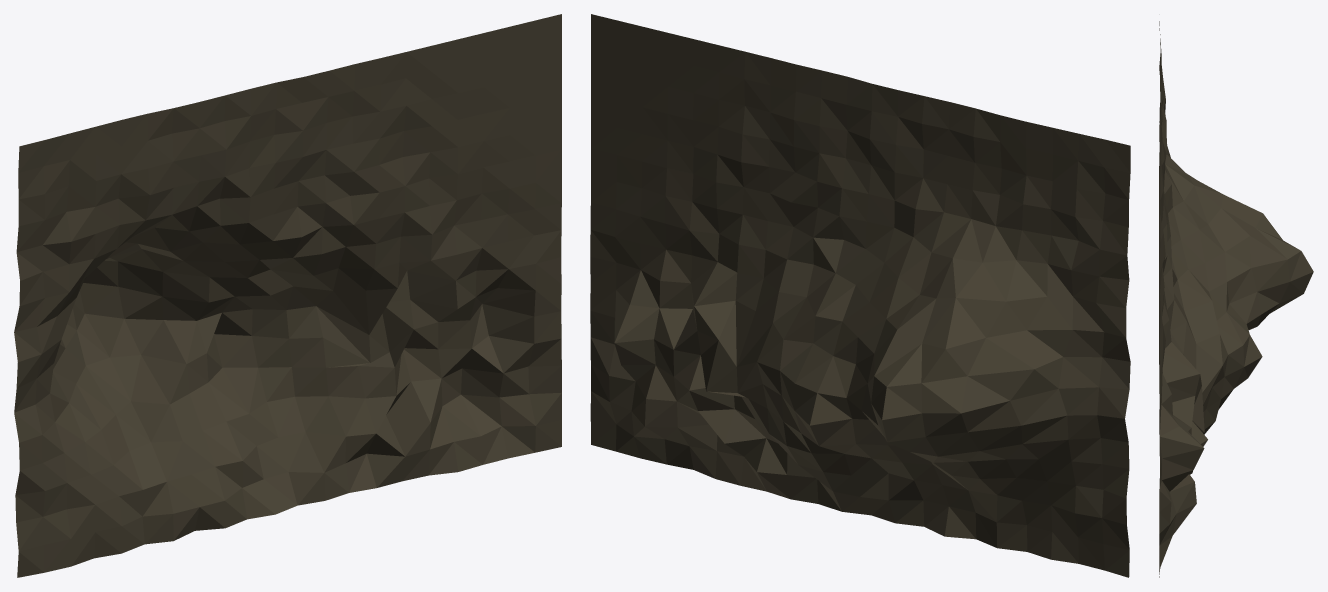
Rendered from mountain1.dae.
The picture shows the model from 3 angles, left to right: view 1: azimuth 30°, elevation 25°; view 2: azimuth 150°, elevation 25°; view 3: azimuth 270°, elevation 25°; orthographic projection. The views are drawn at different scales.
Visible parts, largest first — view 1: Plane; view 2: Plane; view 3: Plane.
Boxes of the visible parts, <box> form: Plane: <box>14,14,561,577</box>; Plane: <box>590,14,1130,577</box>; Plane: <box>1159,21,1313,577</box>.
Size of the model in its own units: 14.05 by 4.28 by 10.69.
1 material, 1 textured.
